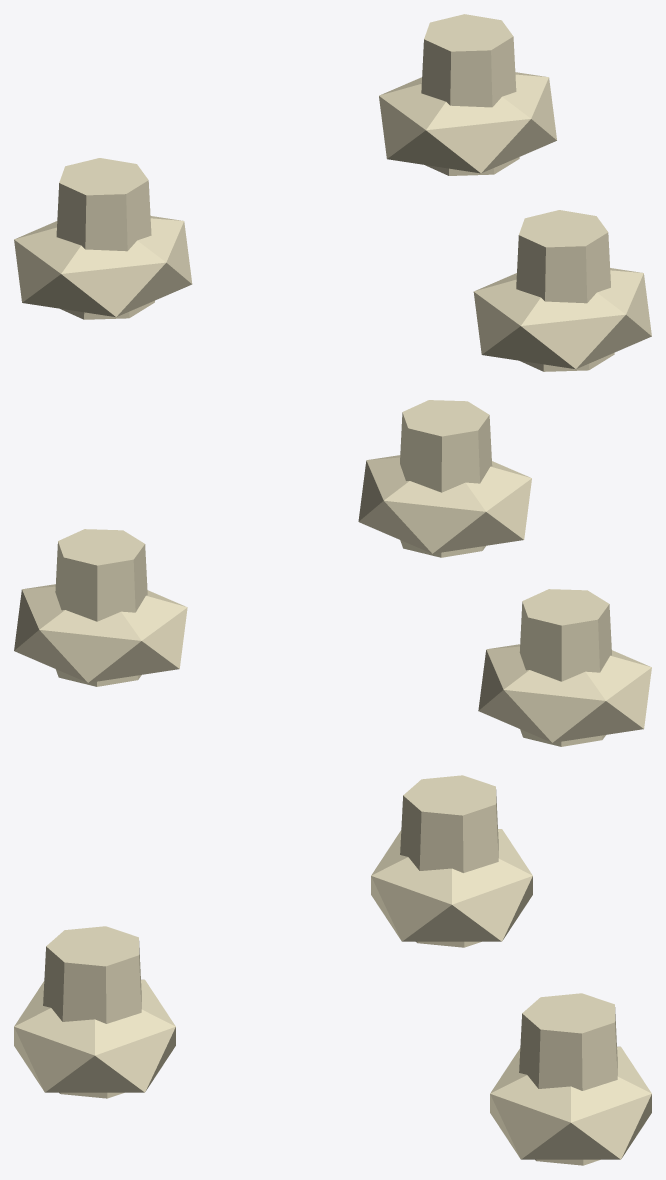
The model's file is CC_CropFungus_Harvested.fbx.
The picture shows the model from 3 angles, top to bottom: view 1: azimuth 30°, elevation 25°; view 2: azimuth 150°, elevation 25°; view 3: azimuth 270°, elevation 25°; orthographic projection. The views are drawn at different scales.
Parts seen in each view (by area): view 1: Living root.003, Living root.004, Living root.005, Cut stalk, Cut stalk.002, Cut stalk.001; view 2: Living root.003, Living root.004, Living root.005, Cut stalk.001, Cut stalk.002, Cut stalk; view 3: Living root.005, Living root.004, Living root.003, Cut stalk.002, Cut stalk.001, Cut stalk.
Part boxes in pixels (x1,y1,x2,y2): Living root.003: [14, 216, 192, 316]; Living root.004: [379, 72, 556, 173]; Living root.005: [473, 268, 651, 369]; Cut stalk: [56, 158, 154, 319]; Cut stalk.002: [516, 210, 614, 371]; Cut stalk.001: [421, 14, 519, 175]; Living root.003: [478, 644, 651, 742]; Living root.004: [14, 584, 187, 682]; Living root.005: [358, 455, 531, 553]; Cut stalk.001: [55, 529, 147, 686]; Cut stalk.002: [400, 400, 492, 557]; Cut stalk: [519, 589, 611, 746]; Living root.005: [14, 979, 175, 1092]; Living root.004: [490, 1046, 651, 1159]; Living root.003: [371, 829, 532, 941]; Cut stalk.002: [43, 926, 141, 1098]; Cut stalk.001: [519, 993, 617, 1165]; Cut stalk: [400, 775, 498, 947].
Bounding box in the file's own units: 1.35 × 0.2925 × 1.21.
